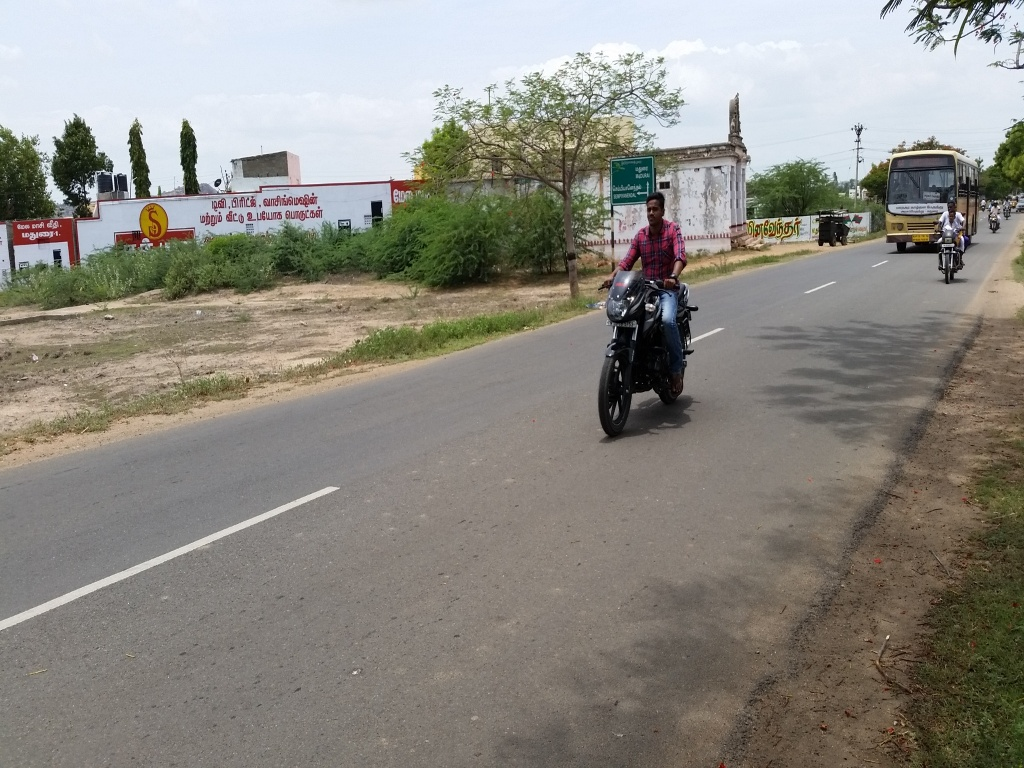biker: (577, 170, 723, 451), (923, 181, 975, 291)
nohelmet: (638, 183, 673, 236), (946, 197, 957, 214), (946, 216, 957, 227)
